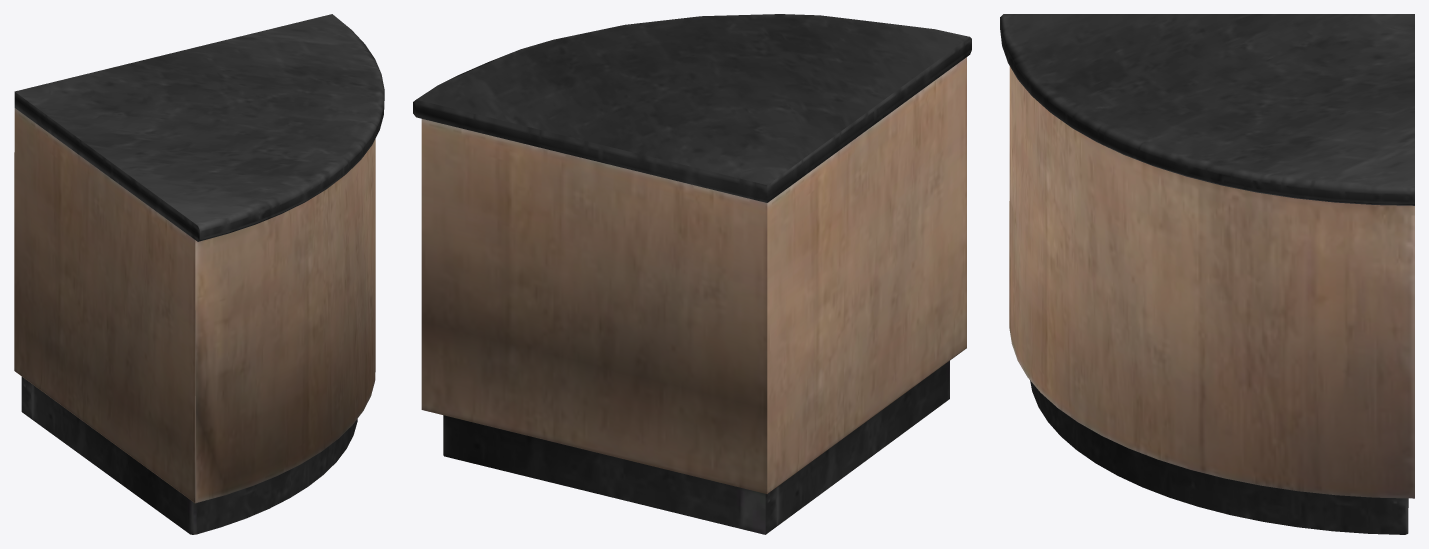
Rendered from sink_counter_corner_a.glb.
The picture shows the model from 3 angles, left to right: view 1: azimuth 30°, elevation 25°; view 2: azimuth 150°, elevation 25°; view 3: azimuth 270°, elevation 25°; orthographic projection. The views are drawn at different scales.
Parts seen in each view (by area): view 1: sink_counter_corner_a; view 2: sink_counter_corner_a; view 3: sink_counter_corner_a.
Part boxes in pixels (x1=…): sink_counter_corner_a: x1=14, y1=14, x2=384, y2=534; sink_counter_corner_a: x1=413, y1=14, x2=971, y2=534; sink_counter_corner_a: x1=1000, y1=14, x2=1414, y2=534.
Size of the model in its own units: 0.7889 by 0.75 by 0.7875.
1 material, 1 textured.
